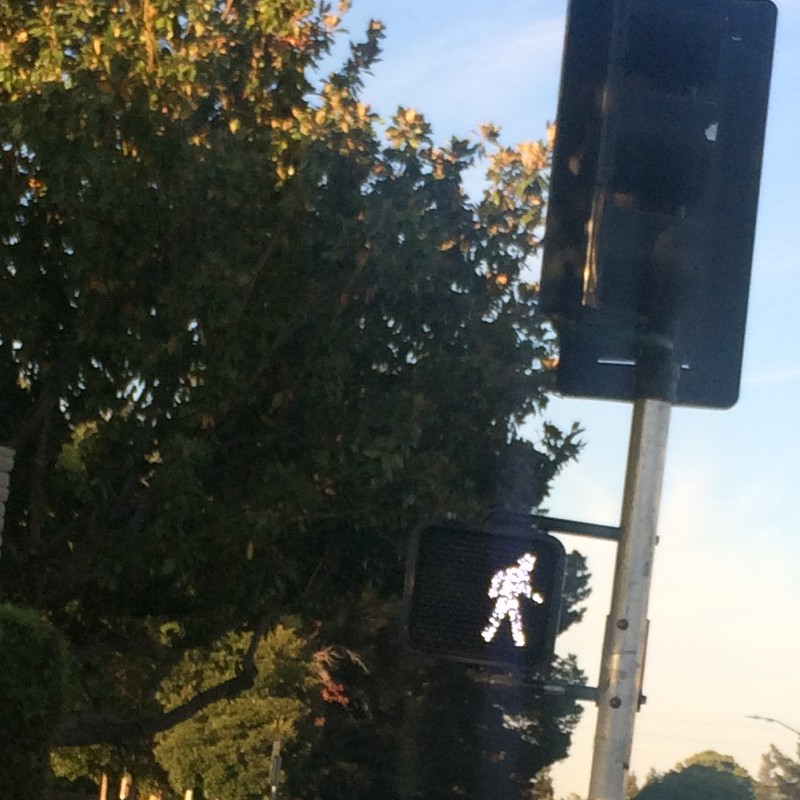go: (414, 526, 565, 669)
